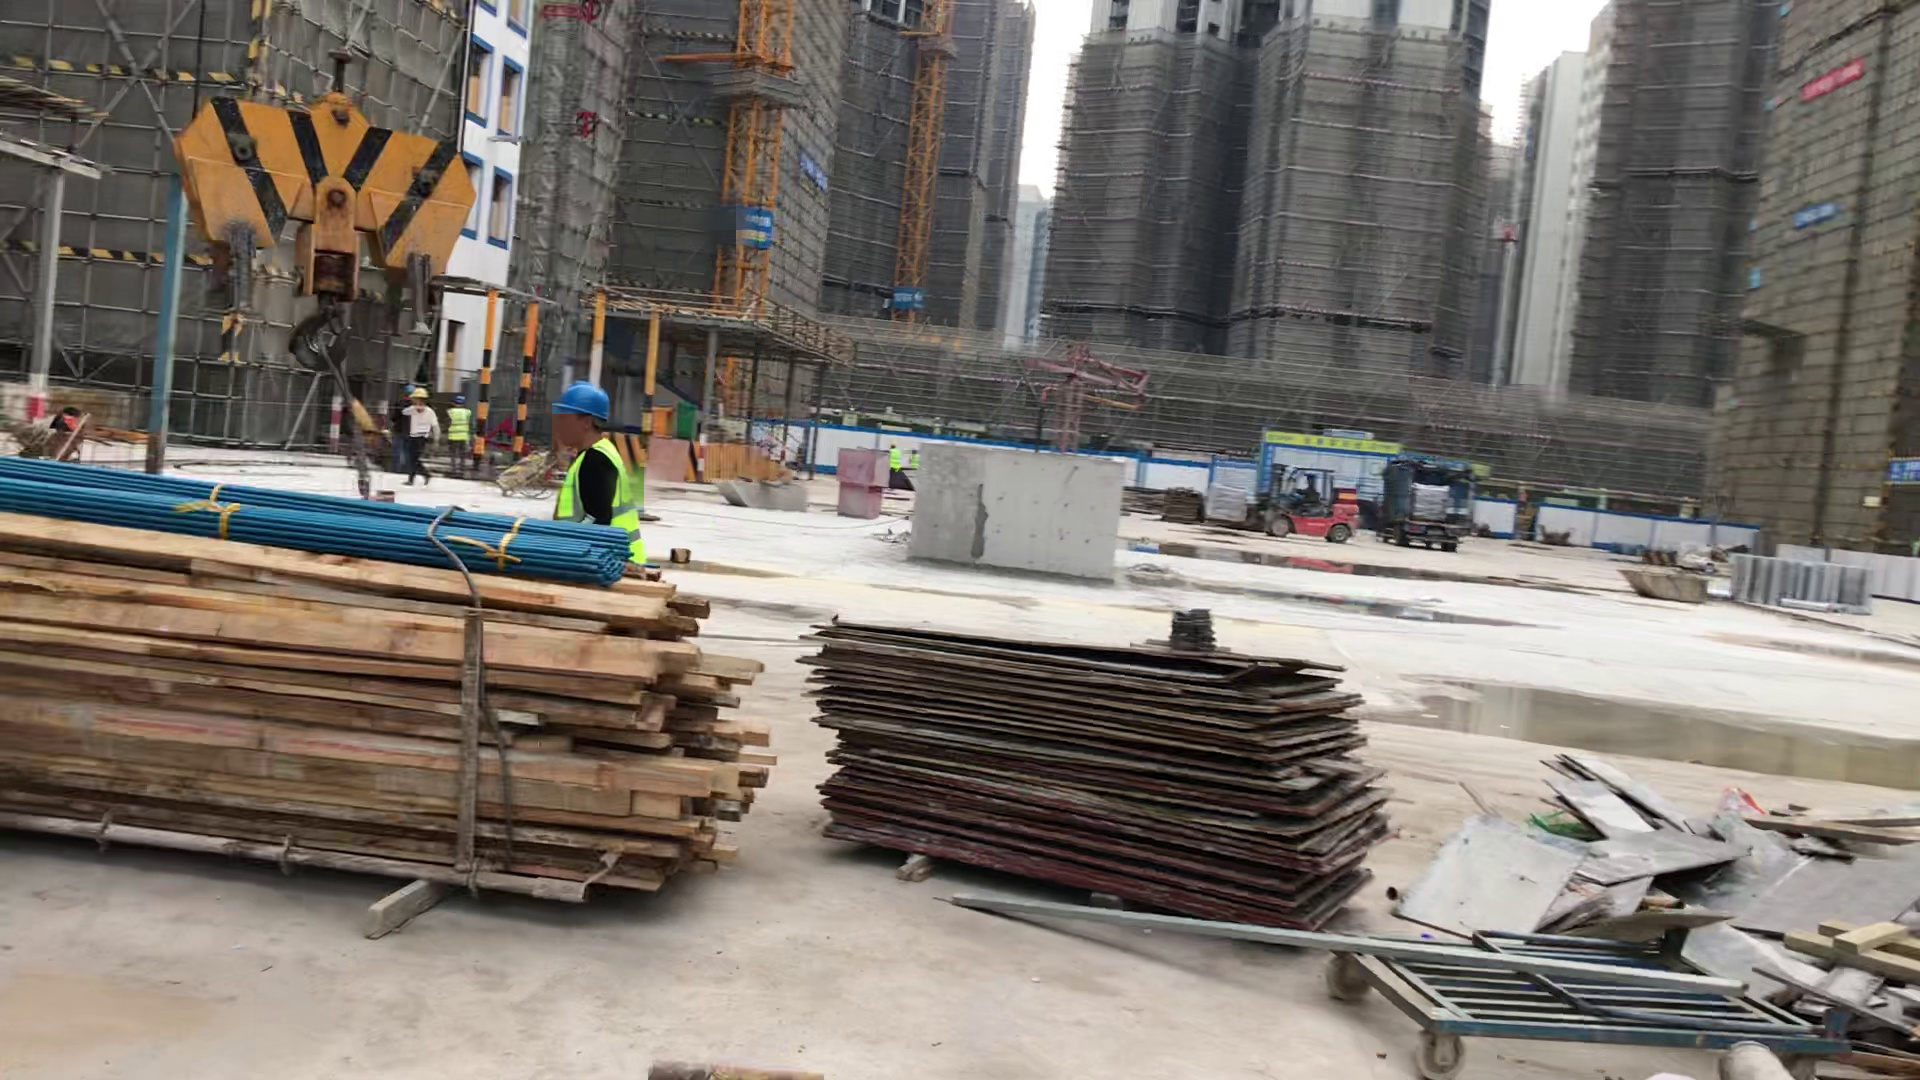helmet: (544, 377, 635, 428), (405, 381, 431, 405), (447, 390, 473, 411)
person: (537, 371, 660, 563), (388, 388, 439, 475), (448, 396, 478, 475), (1296, 472, 1330, 524)
vest: (559, 446, 641, 531), (450, 413, 470, 446), (889, 448, 902, 469), (910, 453, 921, 467)
